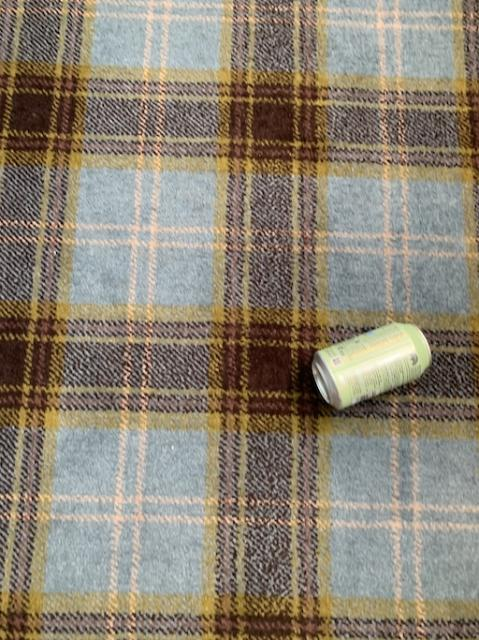metal: (311, 322, 430, 408)
